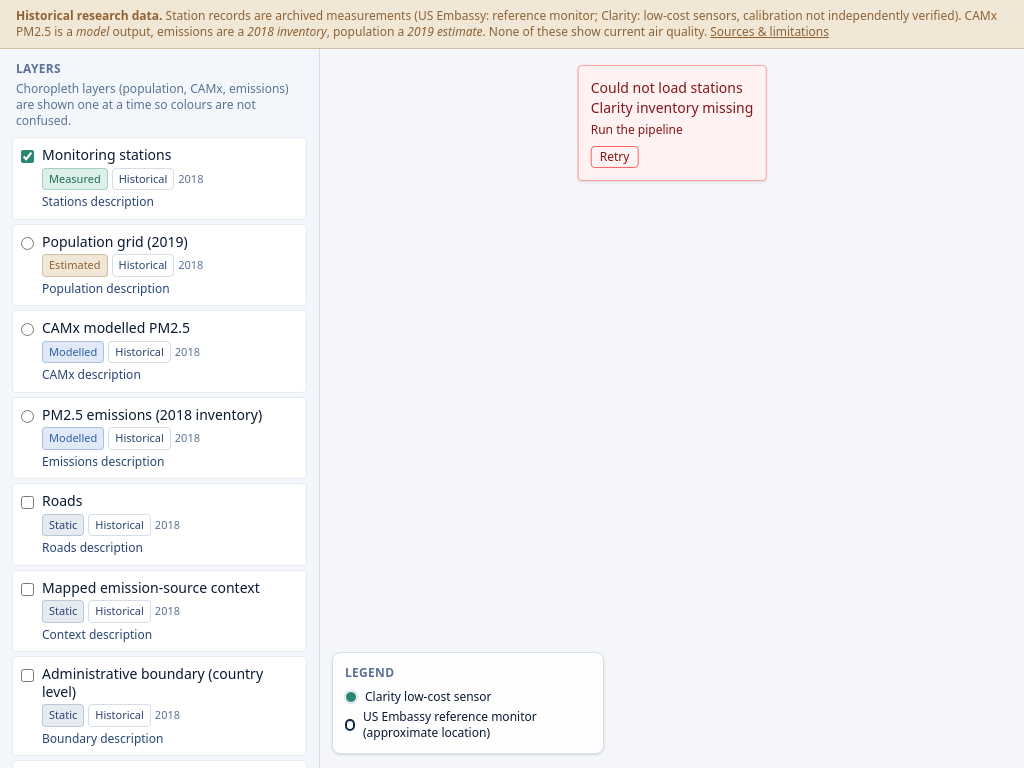
AirQualityMap page › shows an actionable error with retry when stations cannot be loaded
This screenshot has width=1024, height=768.
Check: the text "Clarity inventory missing" is shown, box [591,98,753,118]
Check: the text "Run the pipeline" is shown, box [591,121,683,138]
Click the button "Retry".
click(614, 157)  # box [591,146,638,168]
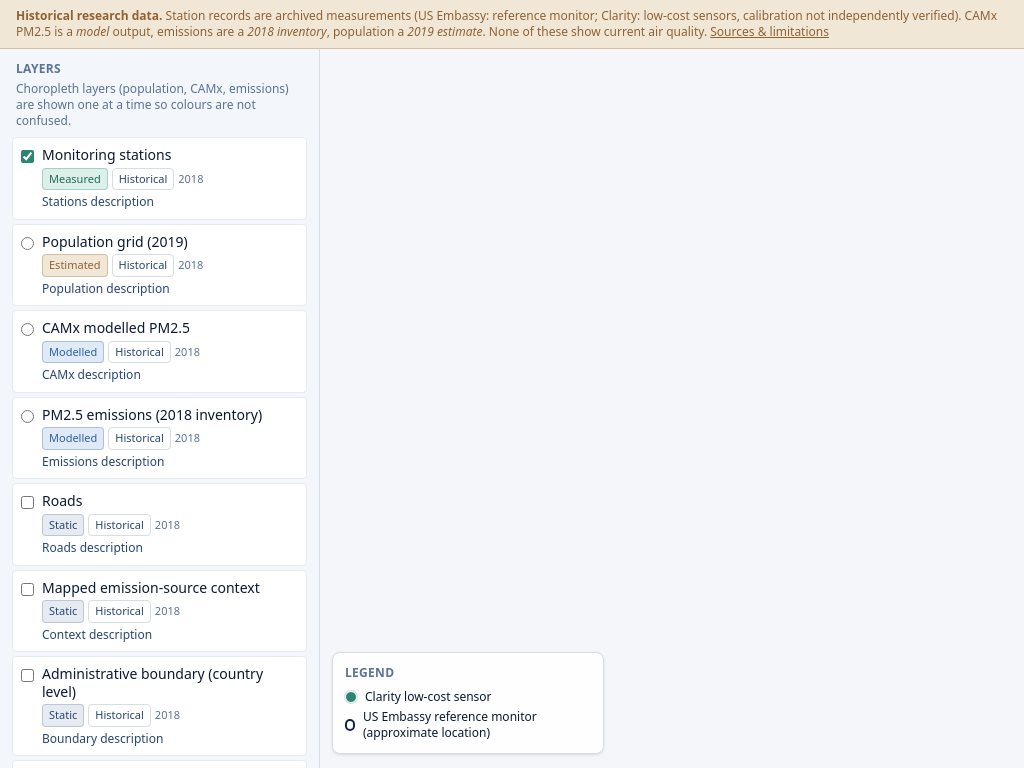
Check: the text "Clarity inventory missing" is gone
